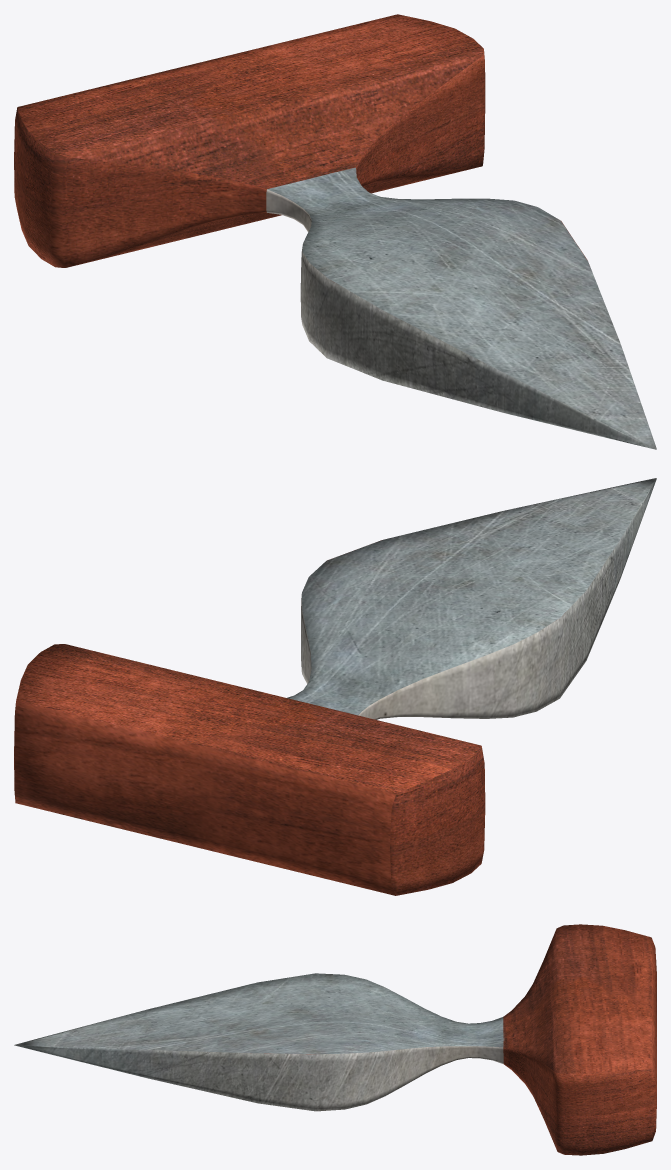
Rendered from smallknife2.fbx.
3 views of the same model, one above another, from view 1: azimuth 30°, elevation 25°; view 2: azimuth 150°, elevation 25°; view 3: azimuth 270°, elevation 25° (orthographic). The views are drawn at different scales.
Parts seen in each view (by area): view 1: Cube.019; view 2: Cube.019; view 3: Cube.019.
Part boxes in pixels (left/top/right/bottom): Cube.019: left=14, top=14, right=656, bottom=449; Cube.019: left=14, top=478, right=656, bottom=895; Cube.019: left=14, top=924, right=656, bottom=1155.
Size of the model in its own units: 1.33 by 0.3354 by 2.39.
